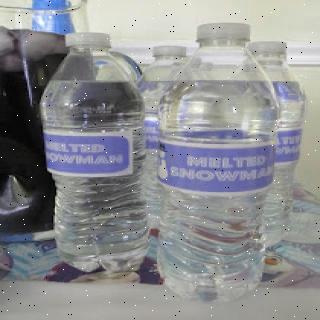Plastic-bottle: (152, 20, 273, 304), (38, 30, 157, 272)
